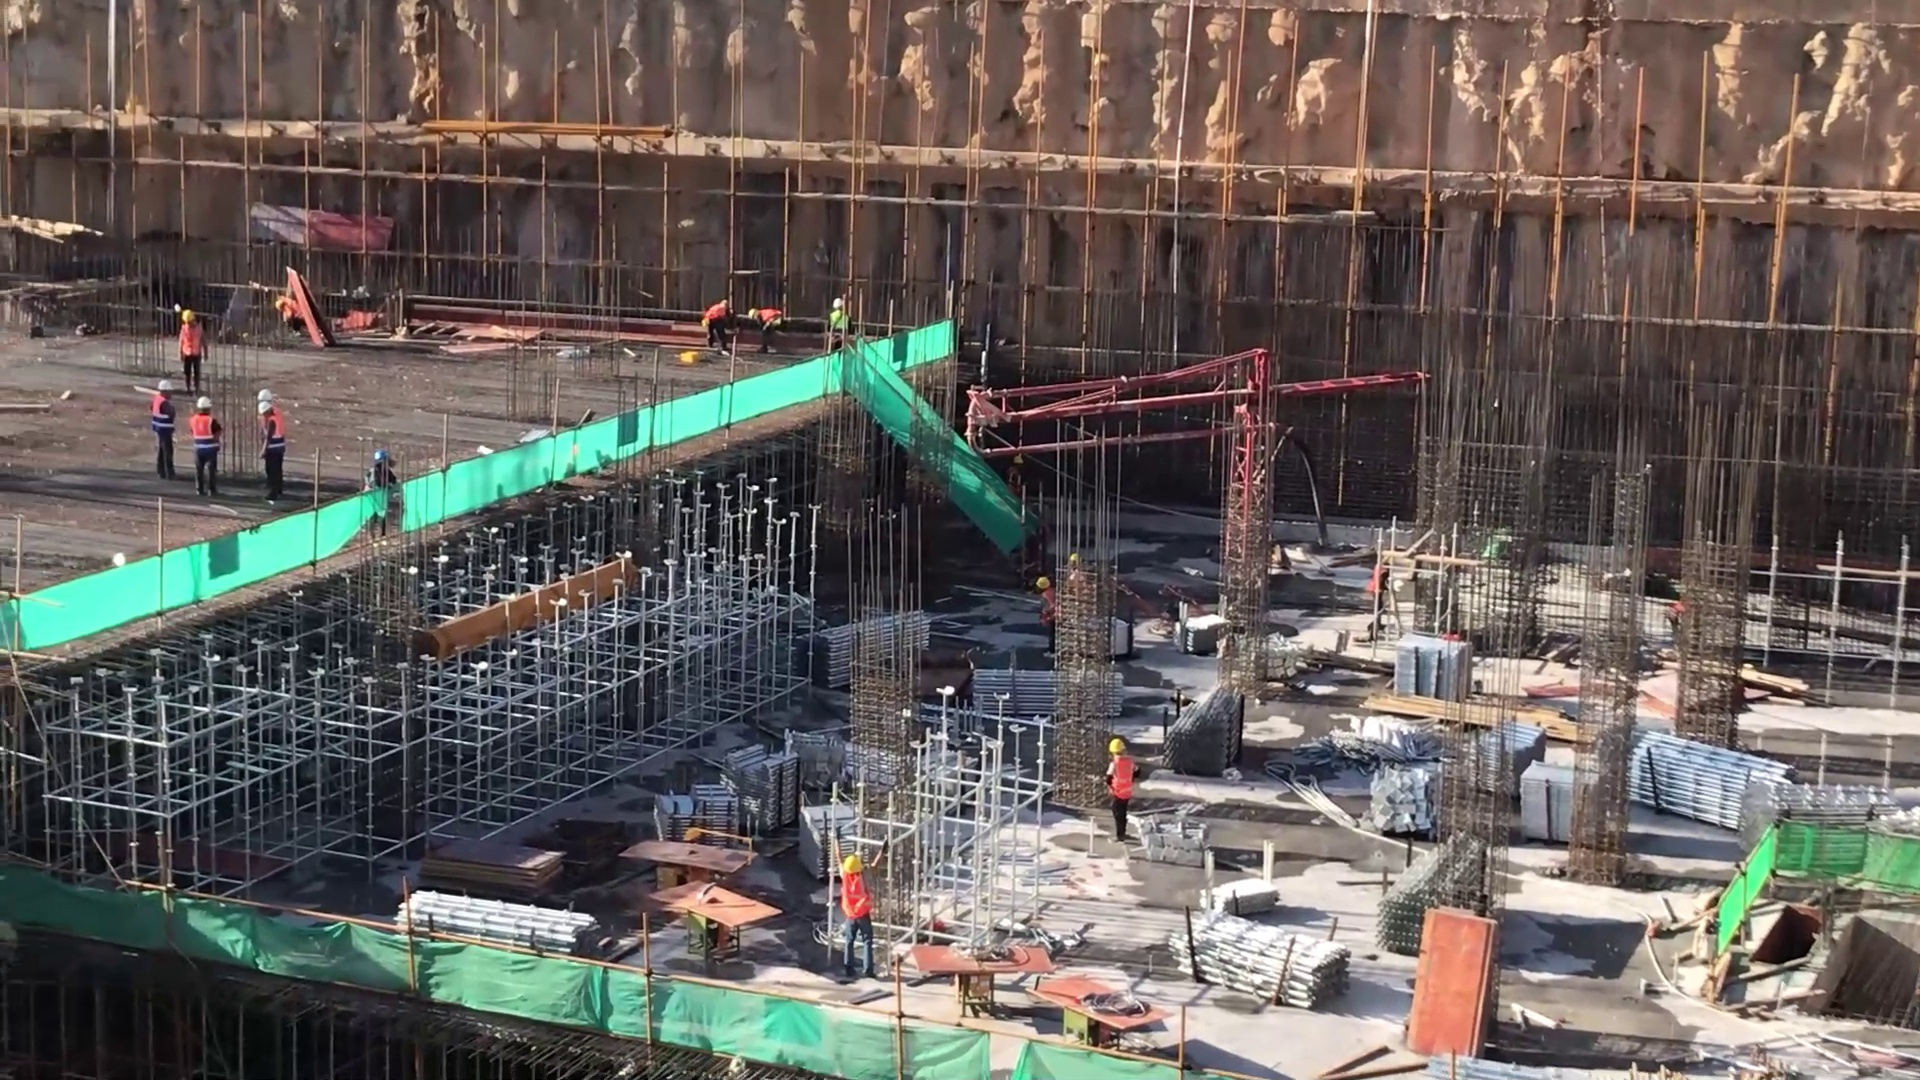helmet: (837, 850, 867, 879), (252, 392, 277, 420), (176, 305, 199, 327), (1103, 738, 1129, 757), (1033, 573, 1056, 593), (192, 393, 214, 413), (696, 316, 715, 338), (745, 303, 761, 326), (826, 297, 846, 313), (154, 378, 174, 394)
person: (829, 823, 892, 983), (1095, 732, 1149, 845), (246, 387, 292, 508), (183, 391, 228, 502), (173, 302, 215, 399), (148, 377, 184, 488), (696, 292, 742, 358), (743, 299, 789, 359), (1028, 573, 1061, 652), (822, 292, 855, 357)
vest: (837, 876, 875, 922), (145, 396, 180, 442), (188, 413, 222, 460), (263, 412, 290, 461), (1106, 753, 1136, 799), (175, 320, 206, 363), (701, 297, 729, 326), (826, 310, 850, 342), (1038, 588, 1059, 623), (759, 306, 783, 327)
